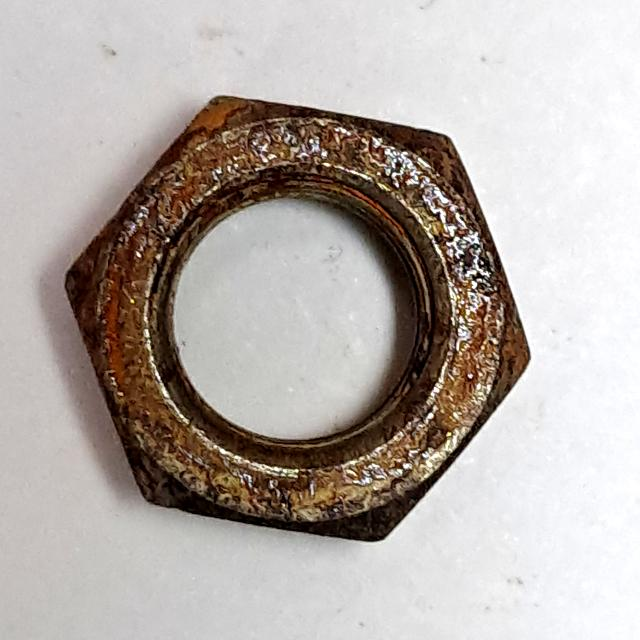Rust: (57, 85, 544, 554)
